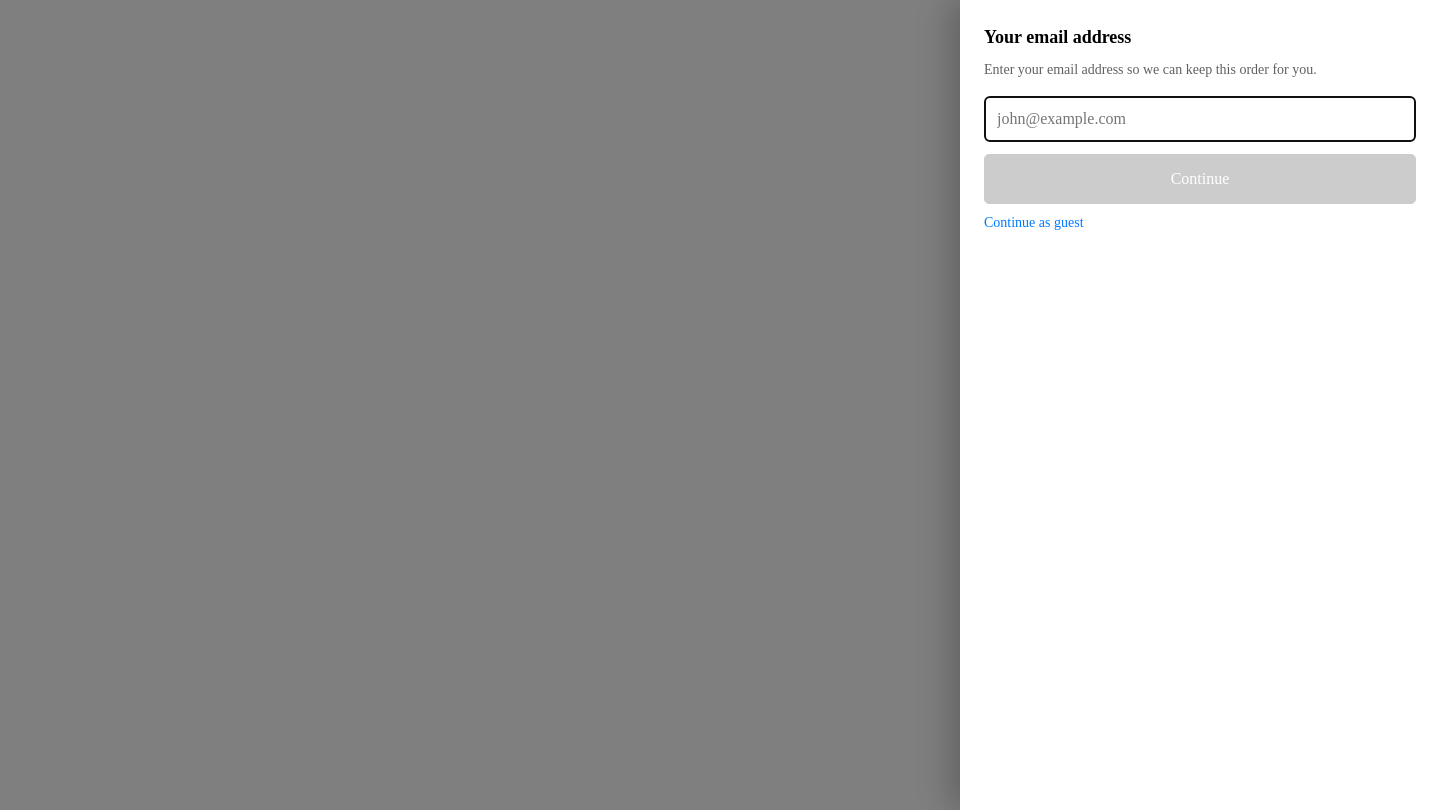
Test case: GuestEmailDialog › asks for an email address, and won't take one without a domain ending
In the field named "Email address": (1200, 119) [984,96,1416,142], type "jo@example"
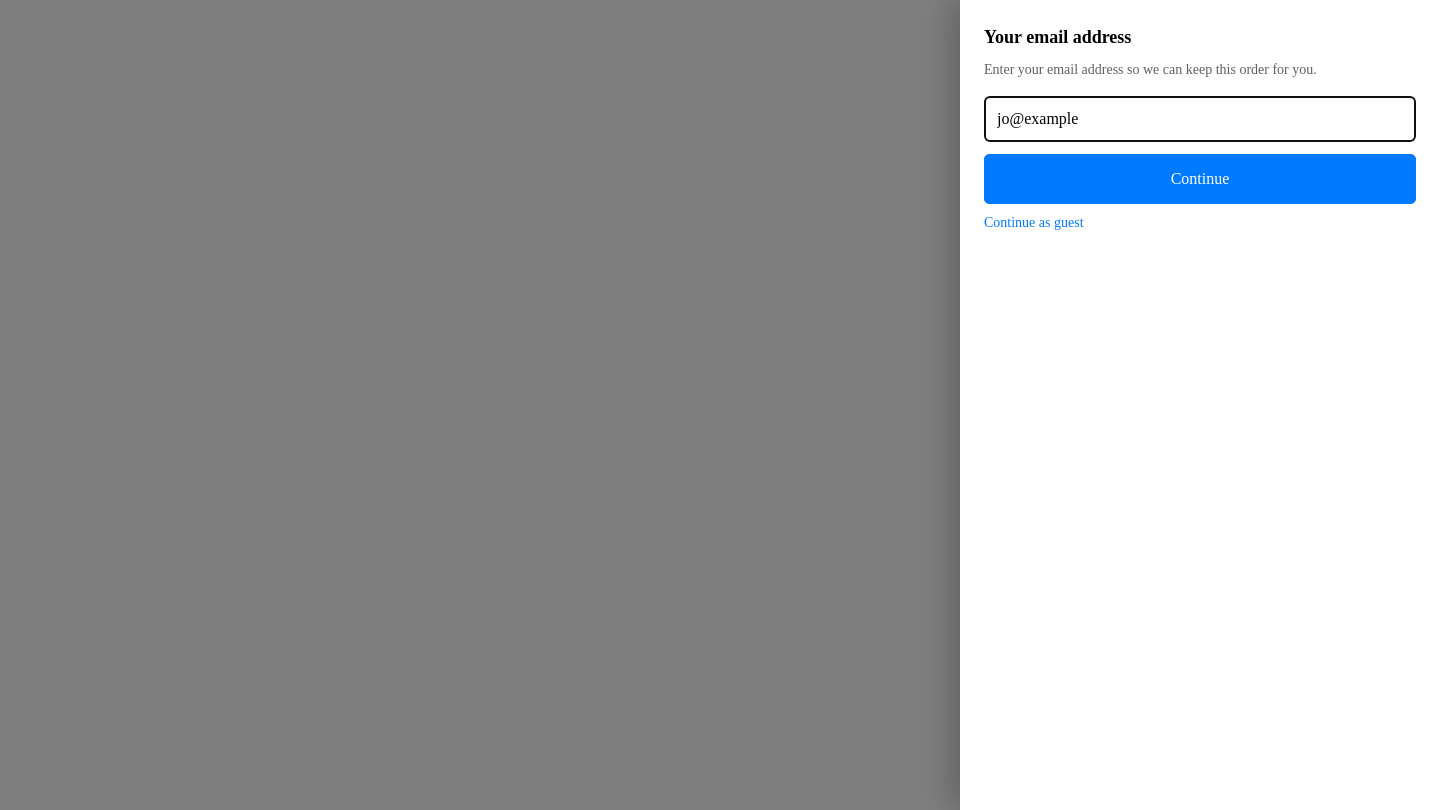
Click the button "Continue": (1200, 179) [984,154,1416,204]
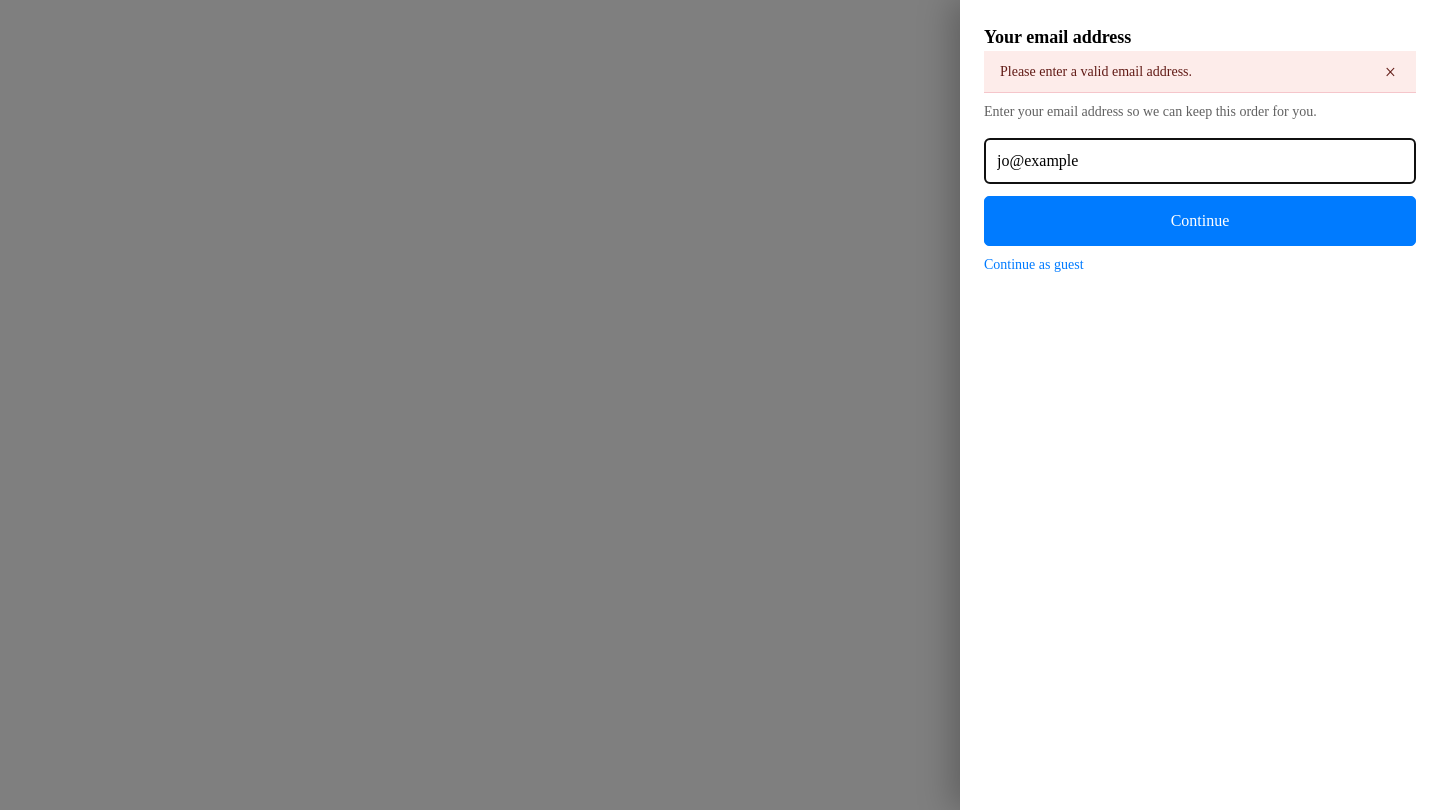
Expected: the text "Please enter a valid email address." is shown, [1000,61,1192,82]
